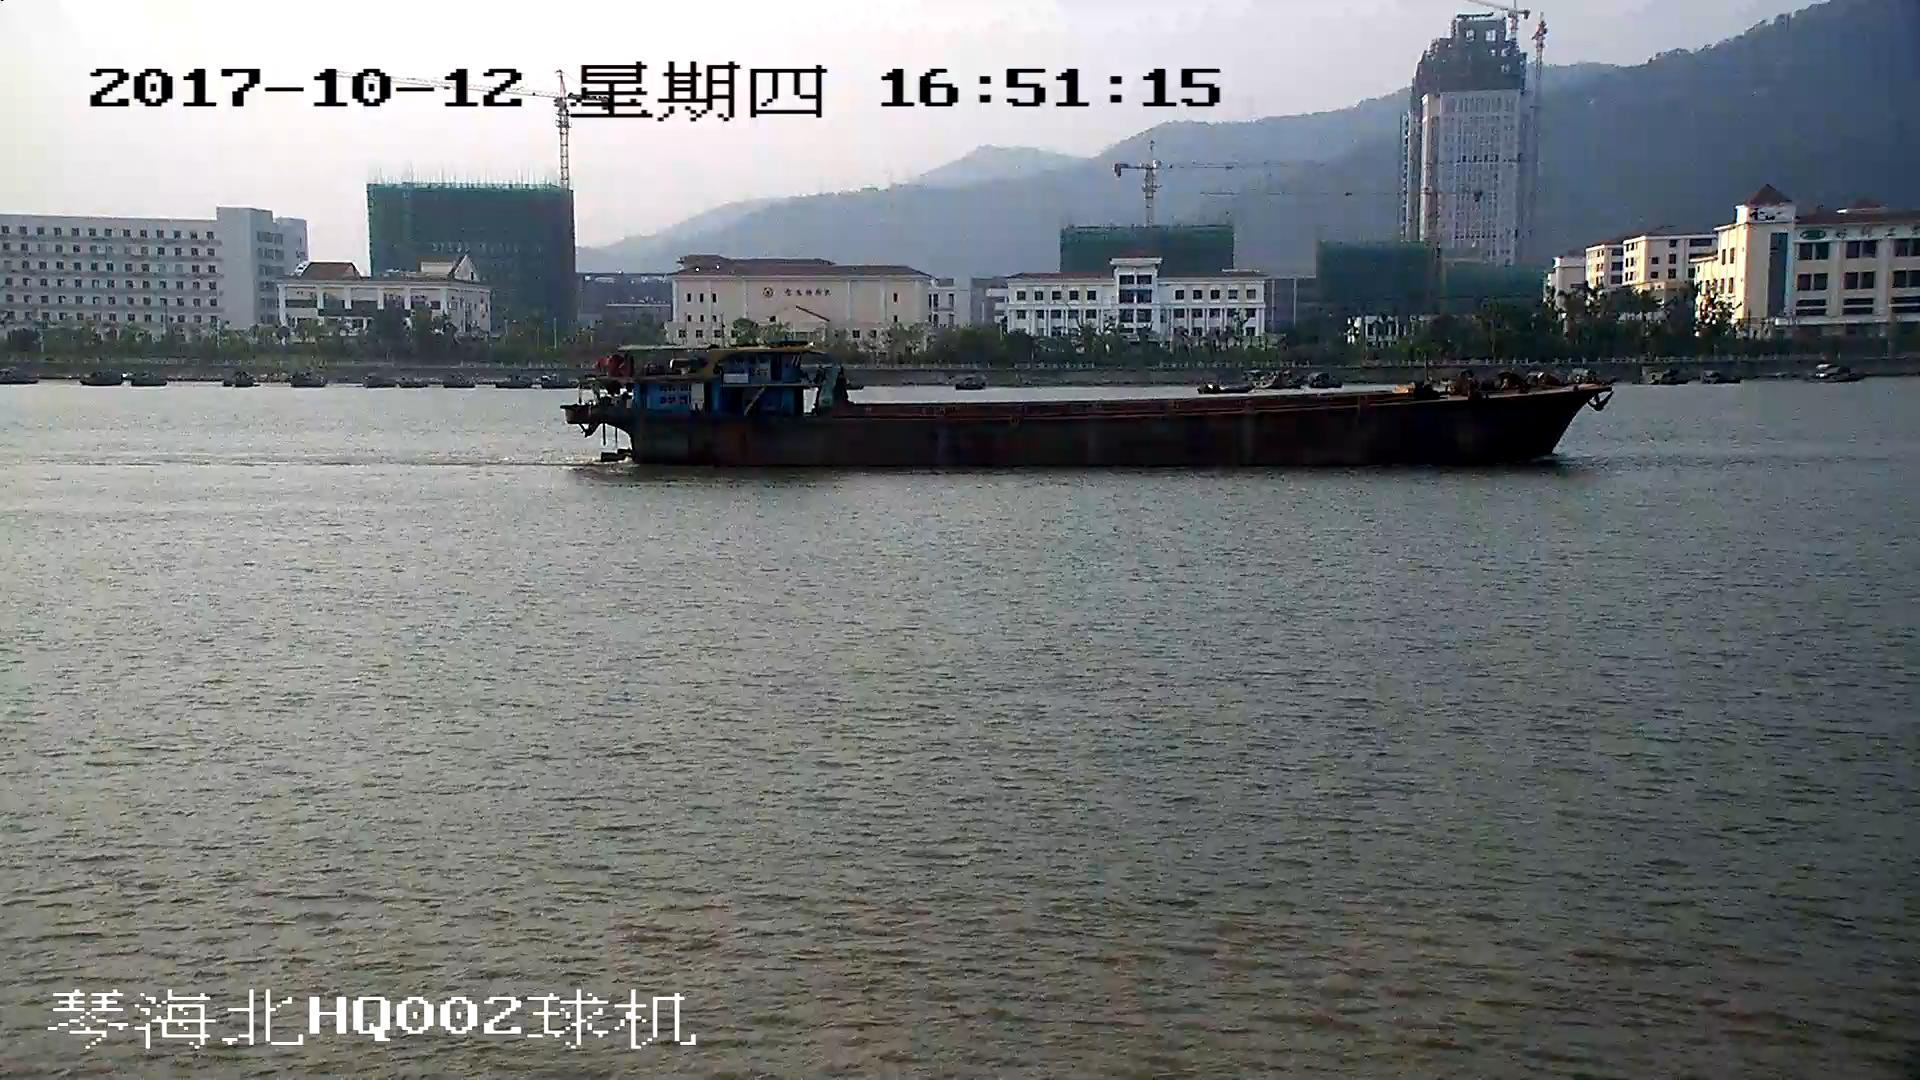bulk cargo carrier: (564, 331, 1606, 474)
